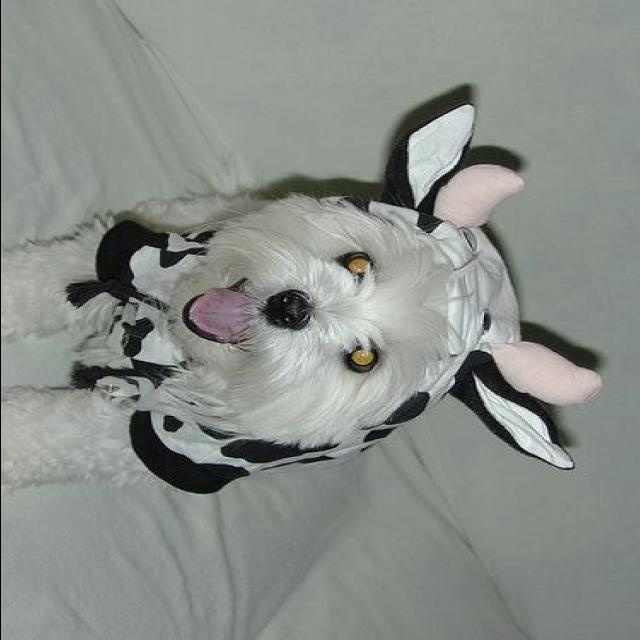maltese_dog: (2, 102, 606, 490)
